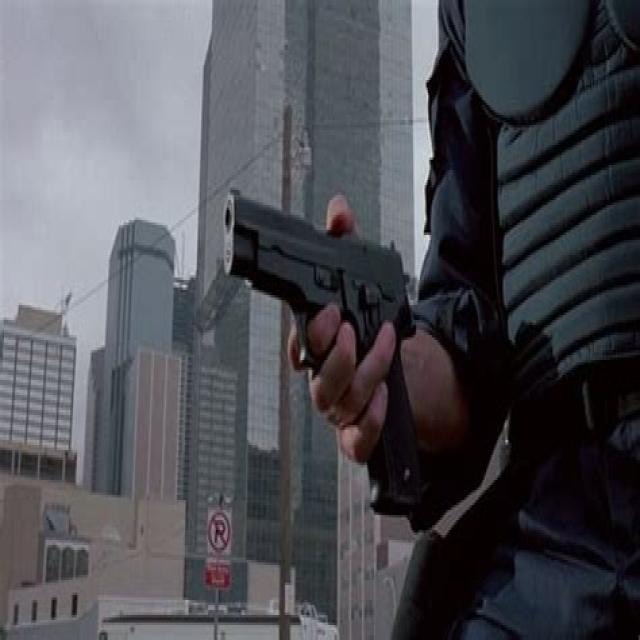weapons: (204, 155, 441, 534)
